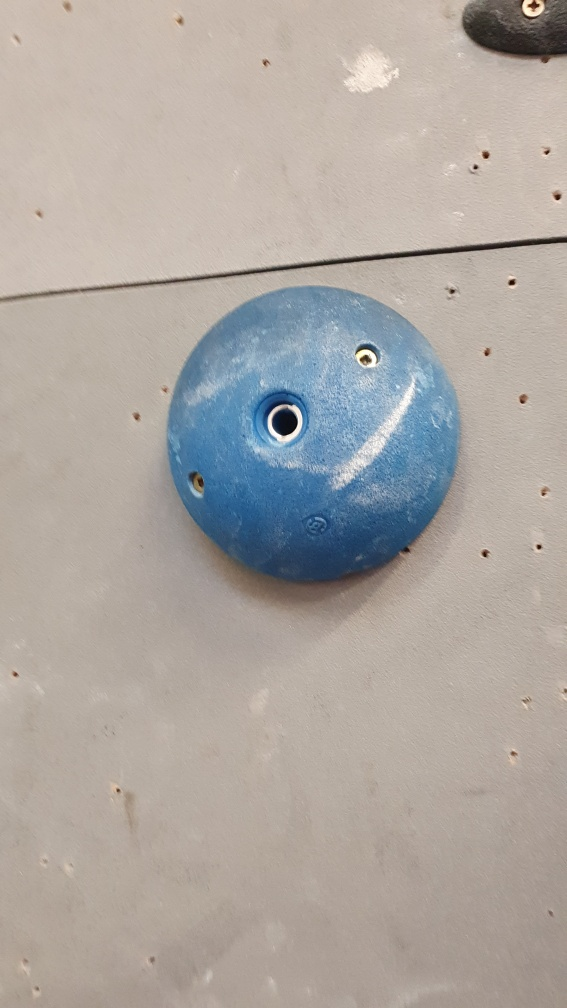Sloper: (162, 281, 465, 586)
